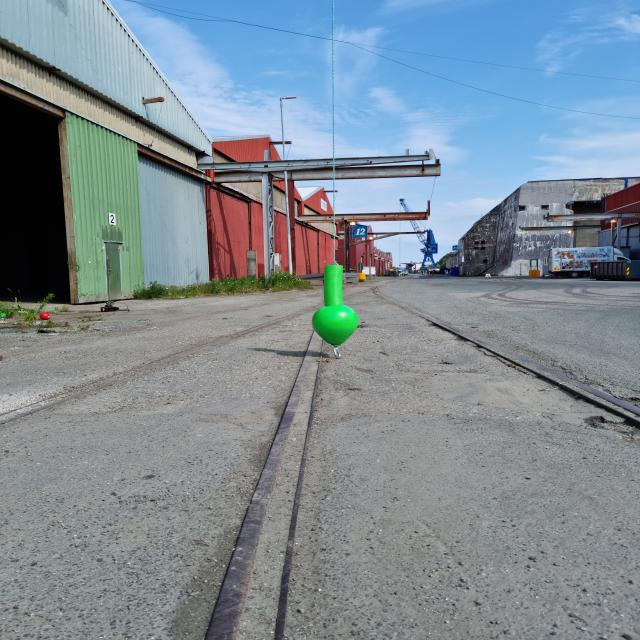green: (313, 263, 360, 345)
